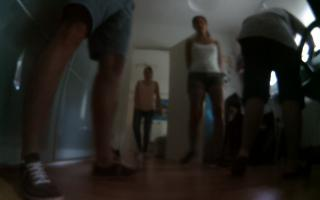person: (20, 1, 140, 200), (228, 6, 316, 182), (178, 12, 224, 170), (128, 63, 161, 164)
